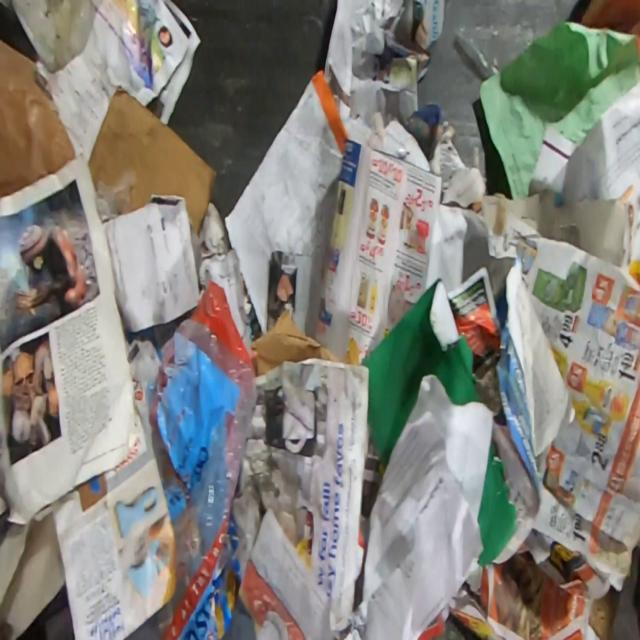cardboard: (358, 275, 485, 470), (86, 88, 217, 239), (250, 306, 344, 375), (477, 436, 518, 568)
soft_plastic: (130, 276, 260, 640), (0, 34, 78, 199), (451, 22, 535, 81)
